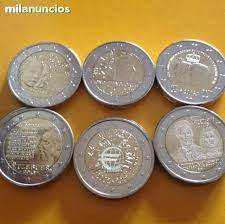eur002: (74, 111, 154, 200), (83, 40, 157, 109), (7, 41, 82, 108), (158, 39, 225, 106)
